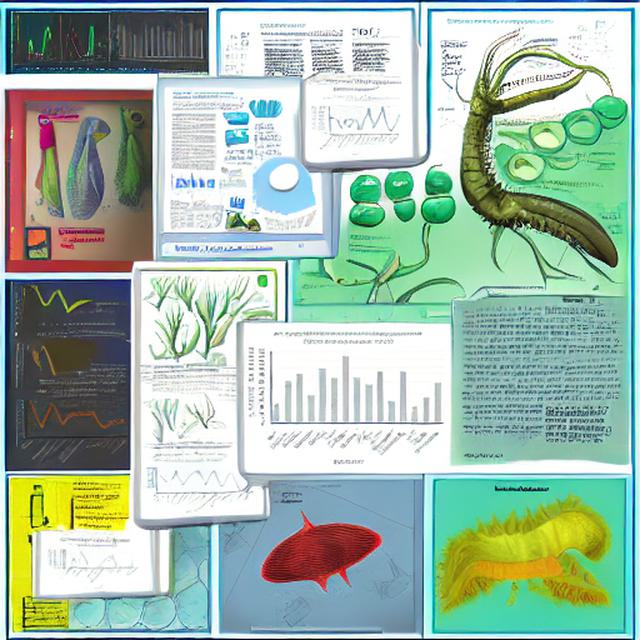Graph: (245, 325, 447, 469), (14, 387, 131, 471), (308, 94, 402, 157), (112, 10, 207, 67), (141, 458, 234, 514), (55, 537, 138, 588), (167, 167, 219, 198)
